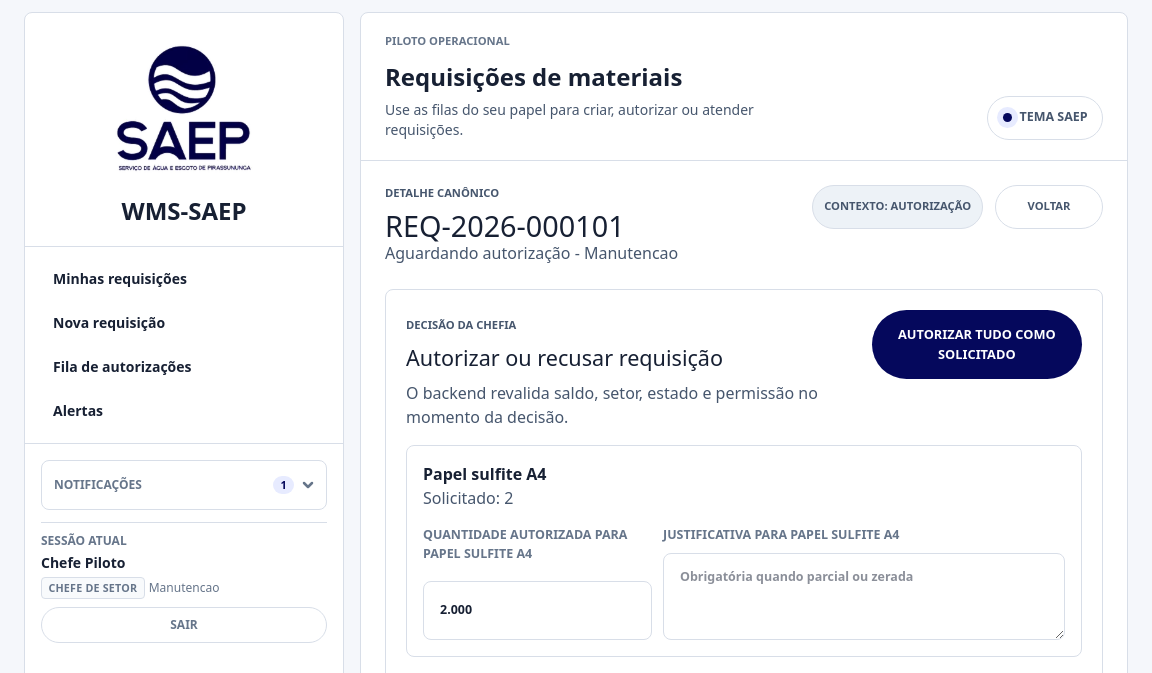
Test: frontend pilot router › shows support details when clipboard is unavailable
The image size is (1152, 673).
Expected: the heading "REQ-2026-000101" is shown, [385,206,625,245]
Click the button "Autorizar tudo como solicitado".
click(977, 345)  # box [872,310,1082,379]
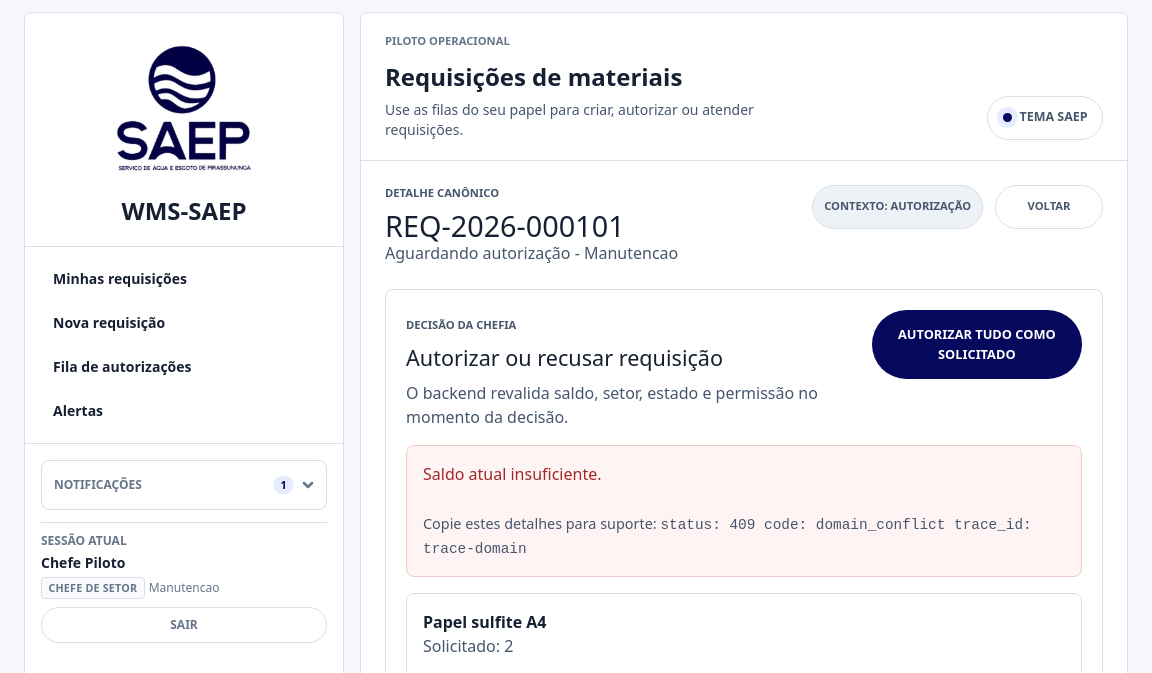
Result: the text "Saldo atual insuficiente." is shown at [423,463,602,485]
Result: the text "Copie estes detalhes para suporte:" is shown at [423,514,660,533]
Result: the text "status: 409 code: domain_conflict trace_id: trace-domain" is shown at [423,517,1032,557]
